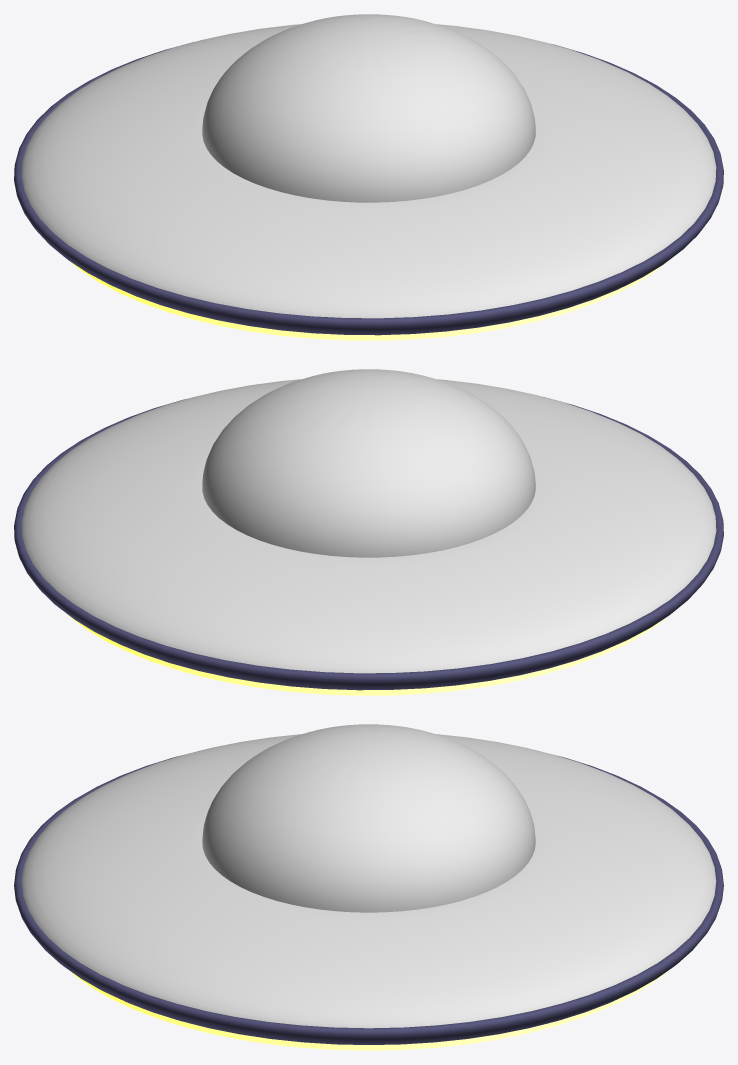
The model's file is UFO.fbx.
3 views of the same model, one above another, from view 1: azimuth 30°, elevation 25°; view 2: azimuth 150°, elevation 25°; view 3: azimuth 270°, elevation 25° (orthographic).
Parts seen in each view (by area): view 1: Secoupe, Cockpit, Secoupe.Anneau, Secoupe.Lights; view 2: Secoupe, Cockpit, Secoupe.Anneau, Secoupe.Lights; view 3: Secoupe, Cockpit, Secoupe.Anneau, Secoupe.Lights.
Part boxes in pixels (x1,y1,x2,y2): Secoupe: (21,24,716,318); Cockpit: (202,14,535,202); Secoupe.Anneau: (14,42,723,335); Secoupe.Lights: (70,260,669,340); Secoupe: (21,379,716,673); Cockpit: (202,369,535,557); Secoupe.Anneau: (14,397,723,690); Secoupe.Lights: (68,615,667,695); Secoupe: (21,734,716,1028); Cockpit: (202,724,535,912); Secoupe.Anneau: (14,756,723,1044); Secoupe.Lights: (70,971,667,1050).
Size of the model in its own units: 1639 by 515 by 1639.
